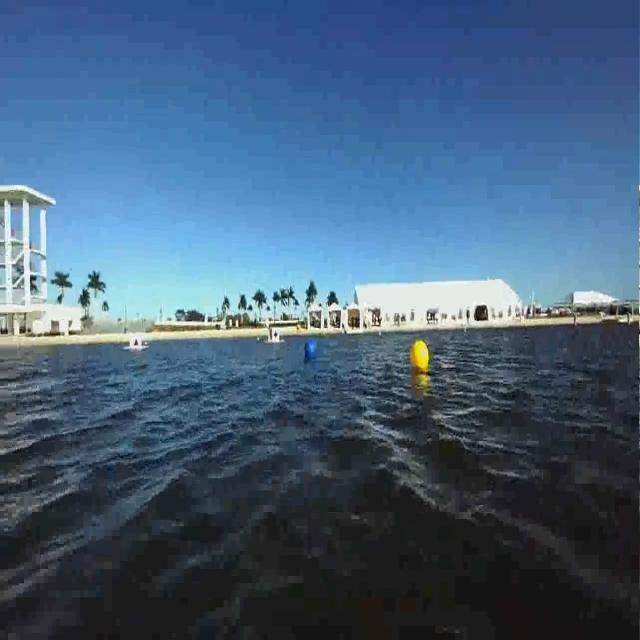blue-buoy: (300, 330, 321, 367)
yellow-buoy: (405, 341, 437, 382)
